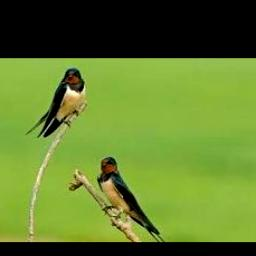Swallow: (97, 156, 165, 242), (27, 68, 87, 138)
